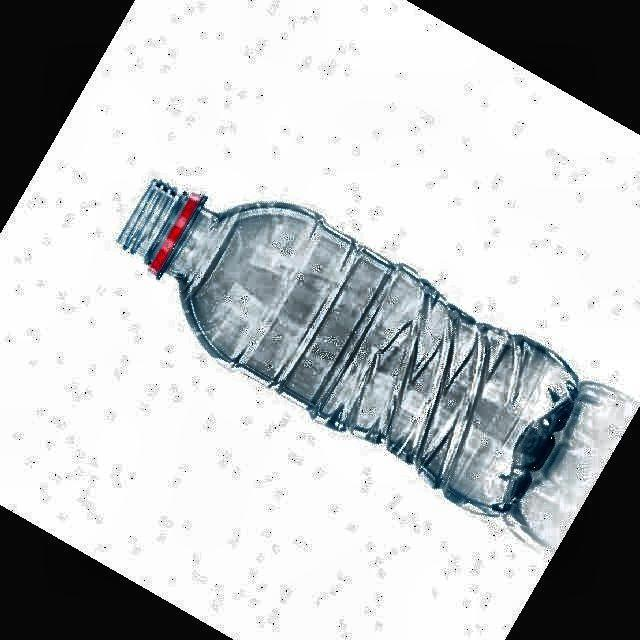plastic: (119, 180, 580, 514)
